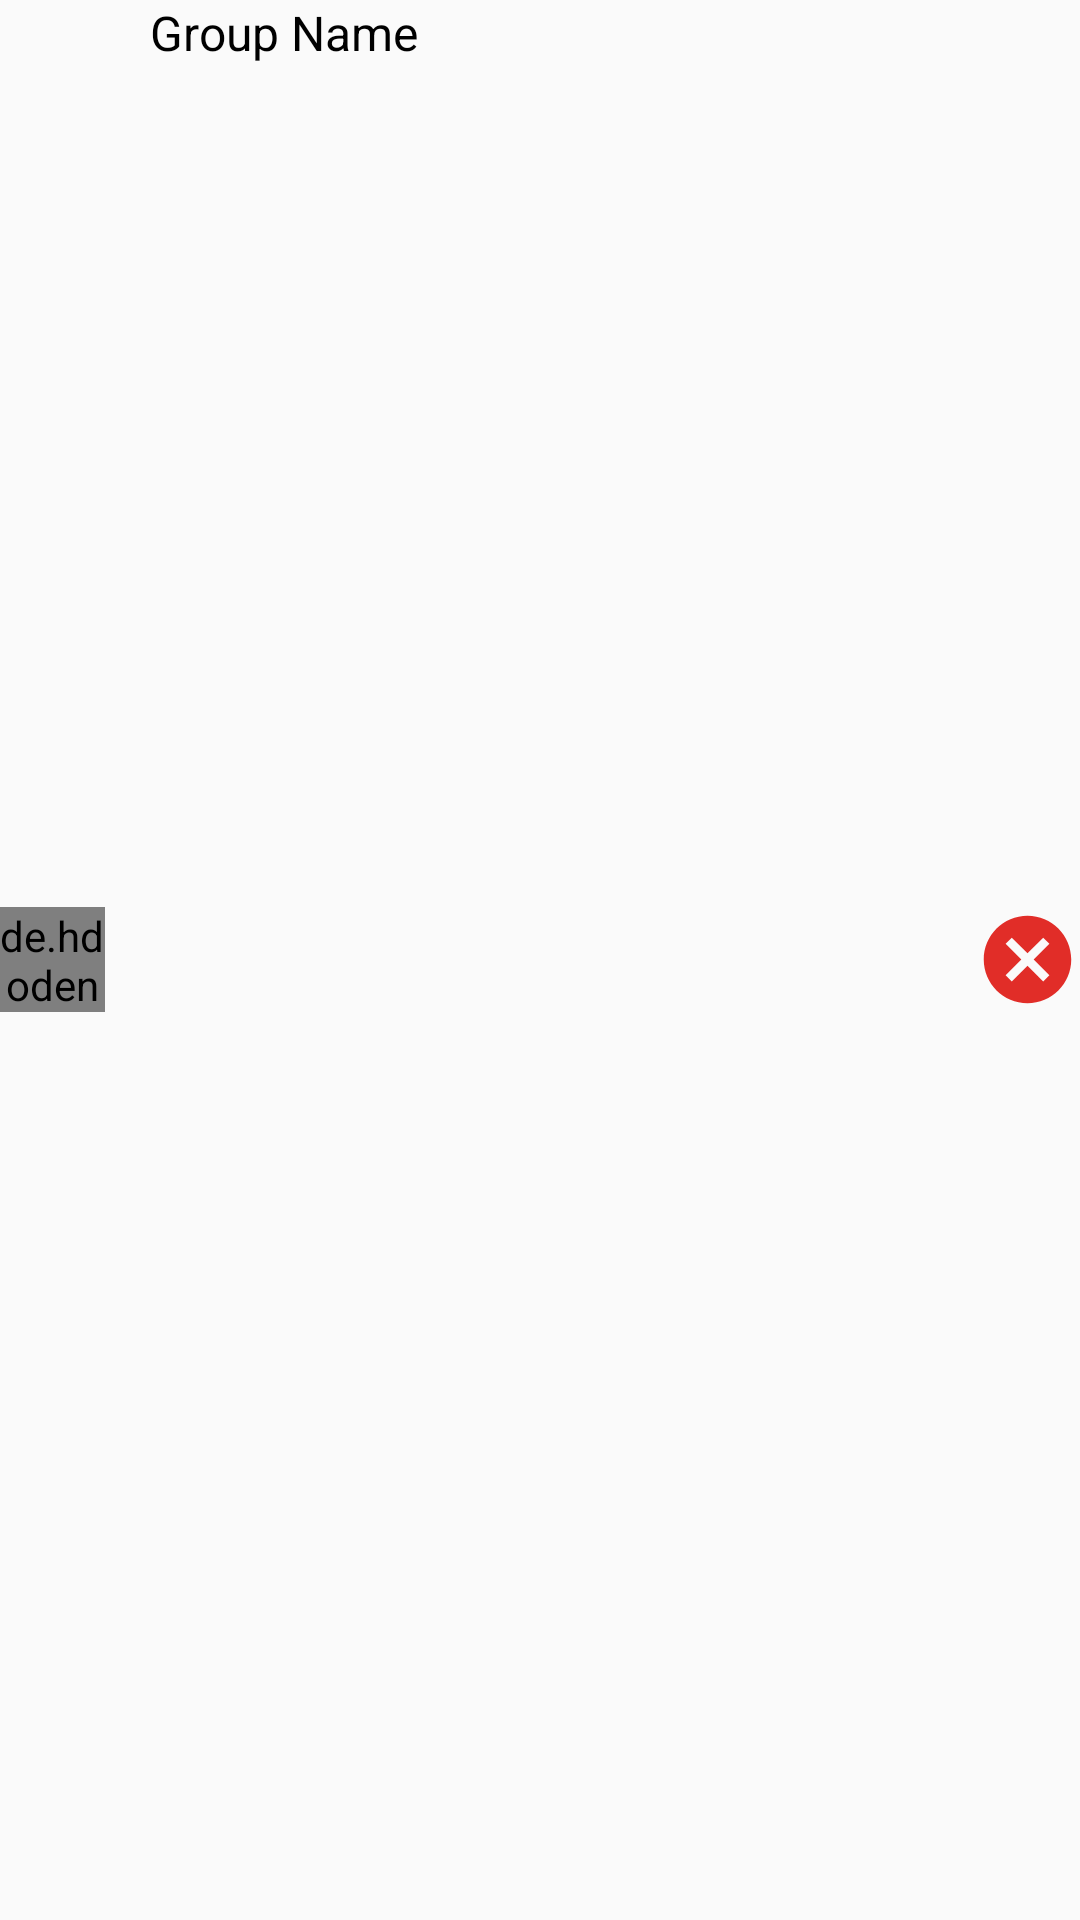

Named icons in this screenshot (1080 x 1920) and their bounding boxes, {"left": x1, "top": y1, "right": x2, "bottom": y2}:
delete: {"left": 983, "top": 915, "right": 1072, "bottom": 1004}
